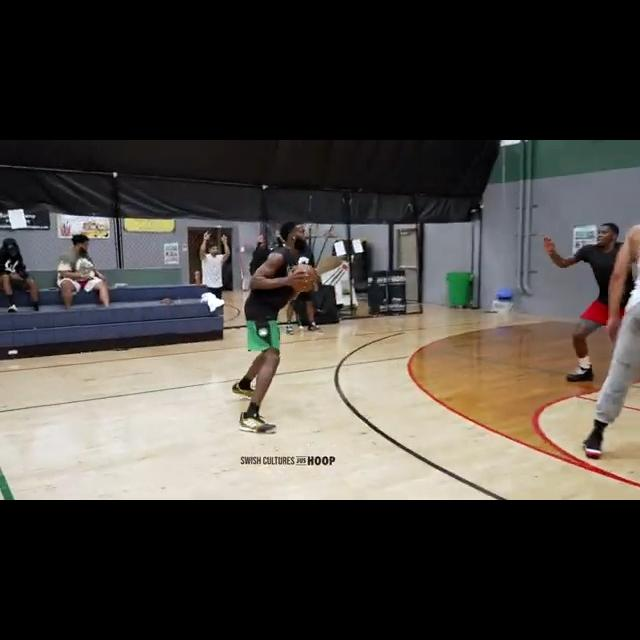basketball: (287, 262, 319, 297)
person: (229, 214, 317, 436), (541, 223, 636, 388), (601, 215, 639, 466), (54, 234, 114, 313), (284, 247, 326, 334), (0, 235, 42, 314), (198, 230, 230, 311), (246, 238, 274, 284)
